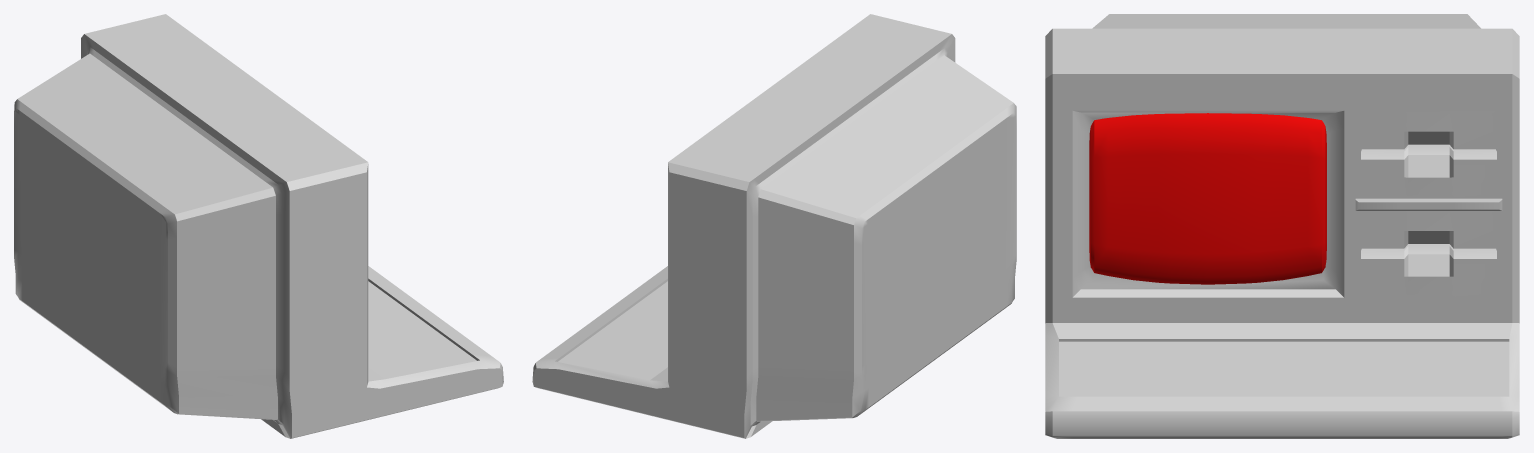
Rendered from Computer Terminal Low-Poly.fbx.
The picture shows the model from 3 angles, left to right: view 1: azimuth 30°, elevation 25°; view 2: azimuth 150°, elevation 25°; view 3: azimuth 270°, elevation 25°; orthographic projection. The views are drawn at different scales.
Visible parts, largest first — view 1: Terminal Low-Poly; view 2: Terminal Low-Poly; view 3: Terminal Low-Poly.
Part boxes in pixels (x1=…): Terminal Low-Poly: x1=14, y1=14, x2=503, y2=438; Terminal Low-Poly: x1=532, y1=14, x2=1016, y2=438; Terminal Low-Poly: x1=1045, y1=14, x2=1519, y2=438.
Bounding box in the file's own units: 42.64 × 33.91 × 50.
